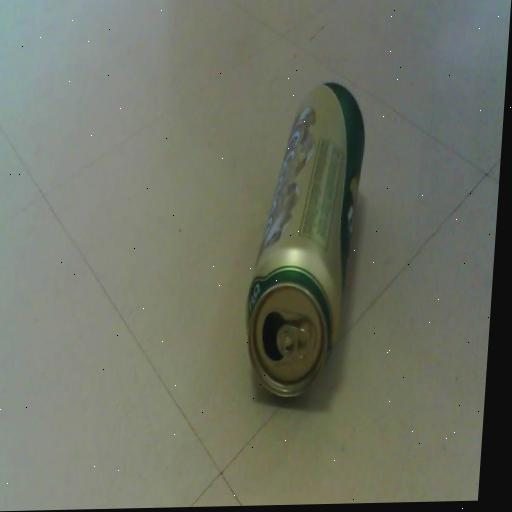canned: (232, 64, 377, 406)
